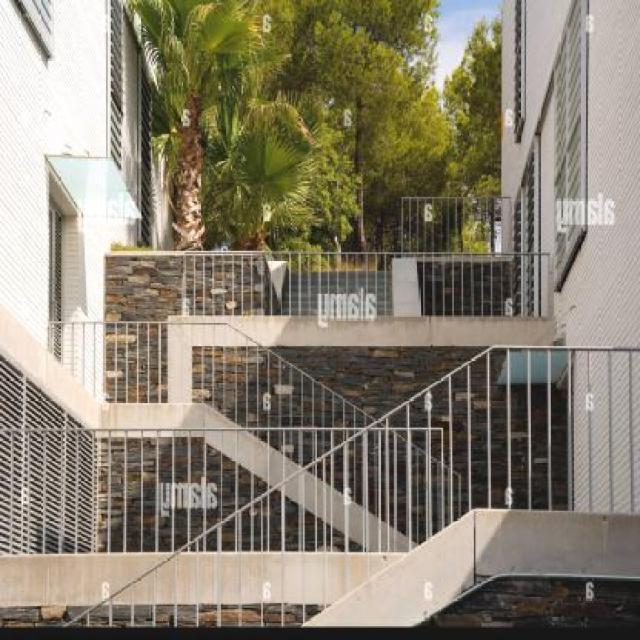stair: (140, 298, 542, 588)
